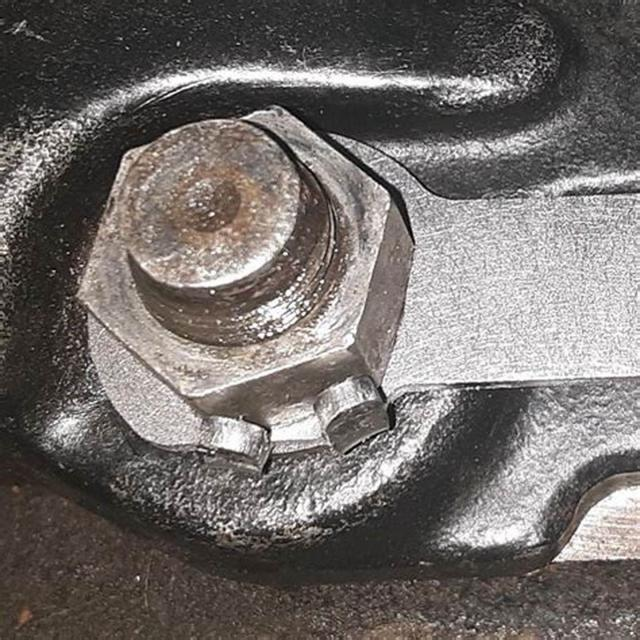bolt nut: (73, 102, 415, 433)
